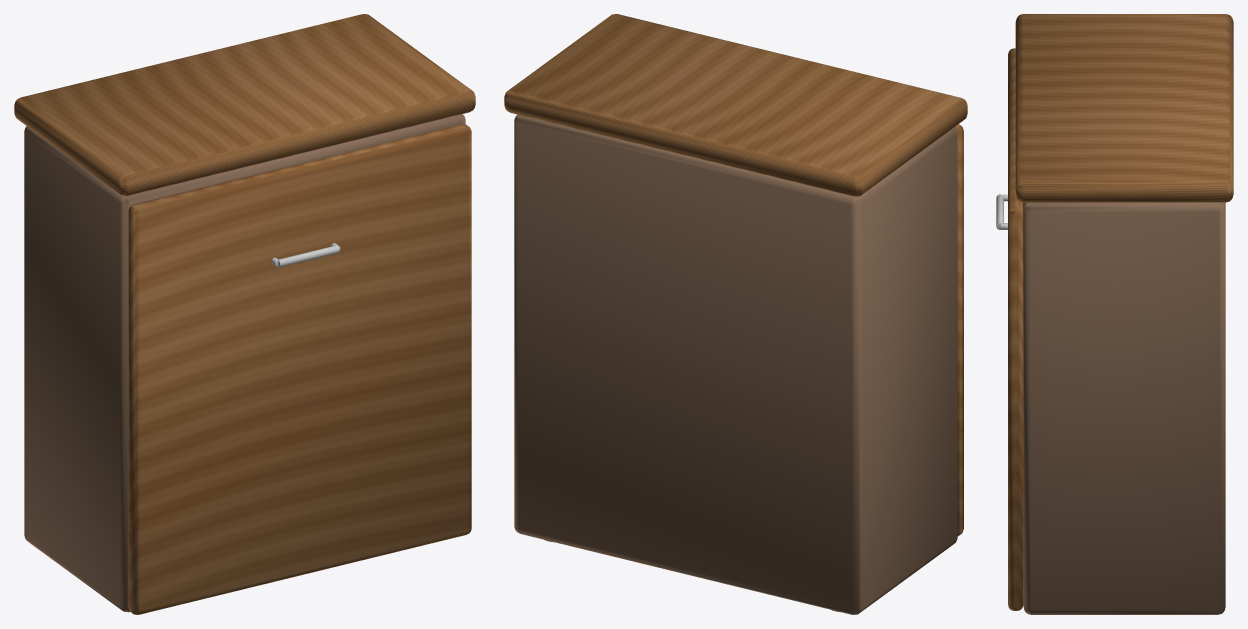
File: wall-cabinet.glb
3 renders of one model, left to right at view 1: azimuth 30°, elevation 25°; view 2: azimuth 150°, elevation 25°; view 3: azimuth 270°, elevation 25°, orthographic.
Parts seen in each view (by area): view 1: wall-cabinet-mesh; view 2: wall-cabinet-mesh; view 3: wall-cabinet-mesh.
Part boxes in pixels (box(x1,y1,x2,y2)): wall-cabinet-mesh: box(14, 14, 475, 614); wall-cabinet-mesh: box(504, 14, 967, 614); wall-cabinet-mesh: box(996, 14, 1233, 614).
Size of the model in its own units: 0.6 by 0.72 by 0.35.
Materials: 3 (1 with a texture image).
